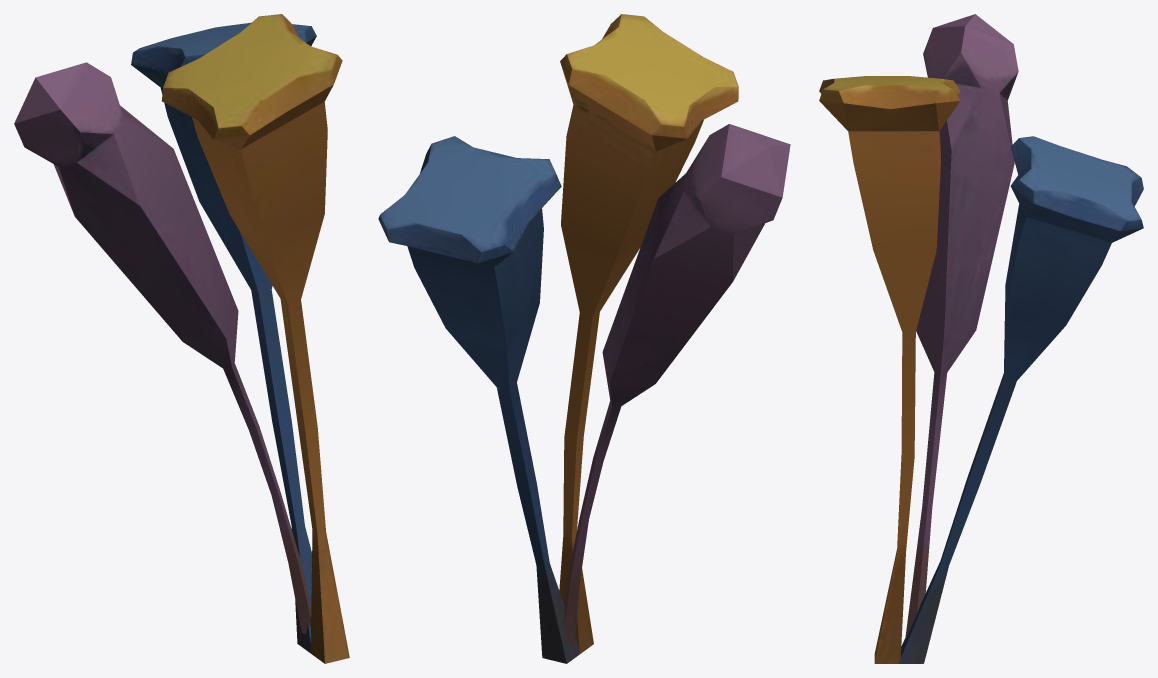
Rendered from FOL_Flower_Big_01.obj.
The picture shows the model from 3 angles, left to right: view 1: azimuth 30°, elevation 25°; view 2: azimuth 150°, elevation 25°; view 3: azimuth 270°, elevation 25°; orthographic projection. The views are drawn at different scales.
Parts seen in each view (by area): view 1: FOL_Flower_Big_01; view 2: FOL_Flower_Big_01; view 3: FOL_Flower_Big_01.
Boxes of the visible parts, x1,y1,x2,y2 form: FOL_Flower_Big_01: [14, 14, 349, 663]; FOL_Flower_Big_01: [378, 14, 790, 663]; FOL_Flower_Big_01: [819, 14, 1143, 663].
Size of the model in its own units: 0.4621 by 0.8331 by 0.4385.
Materials: 1 (1 with a texture image).
